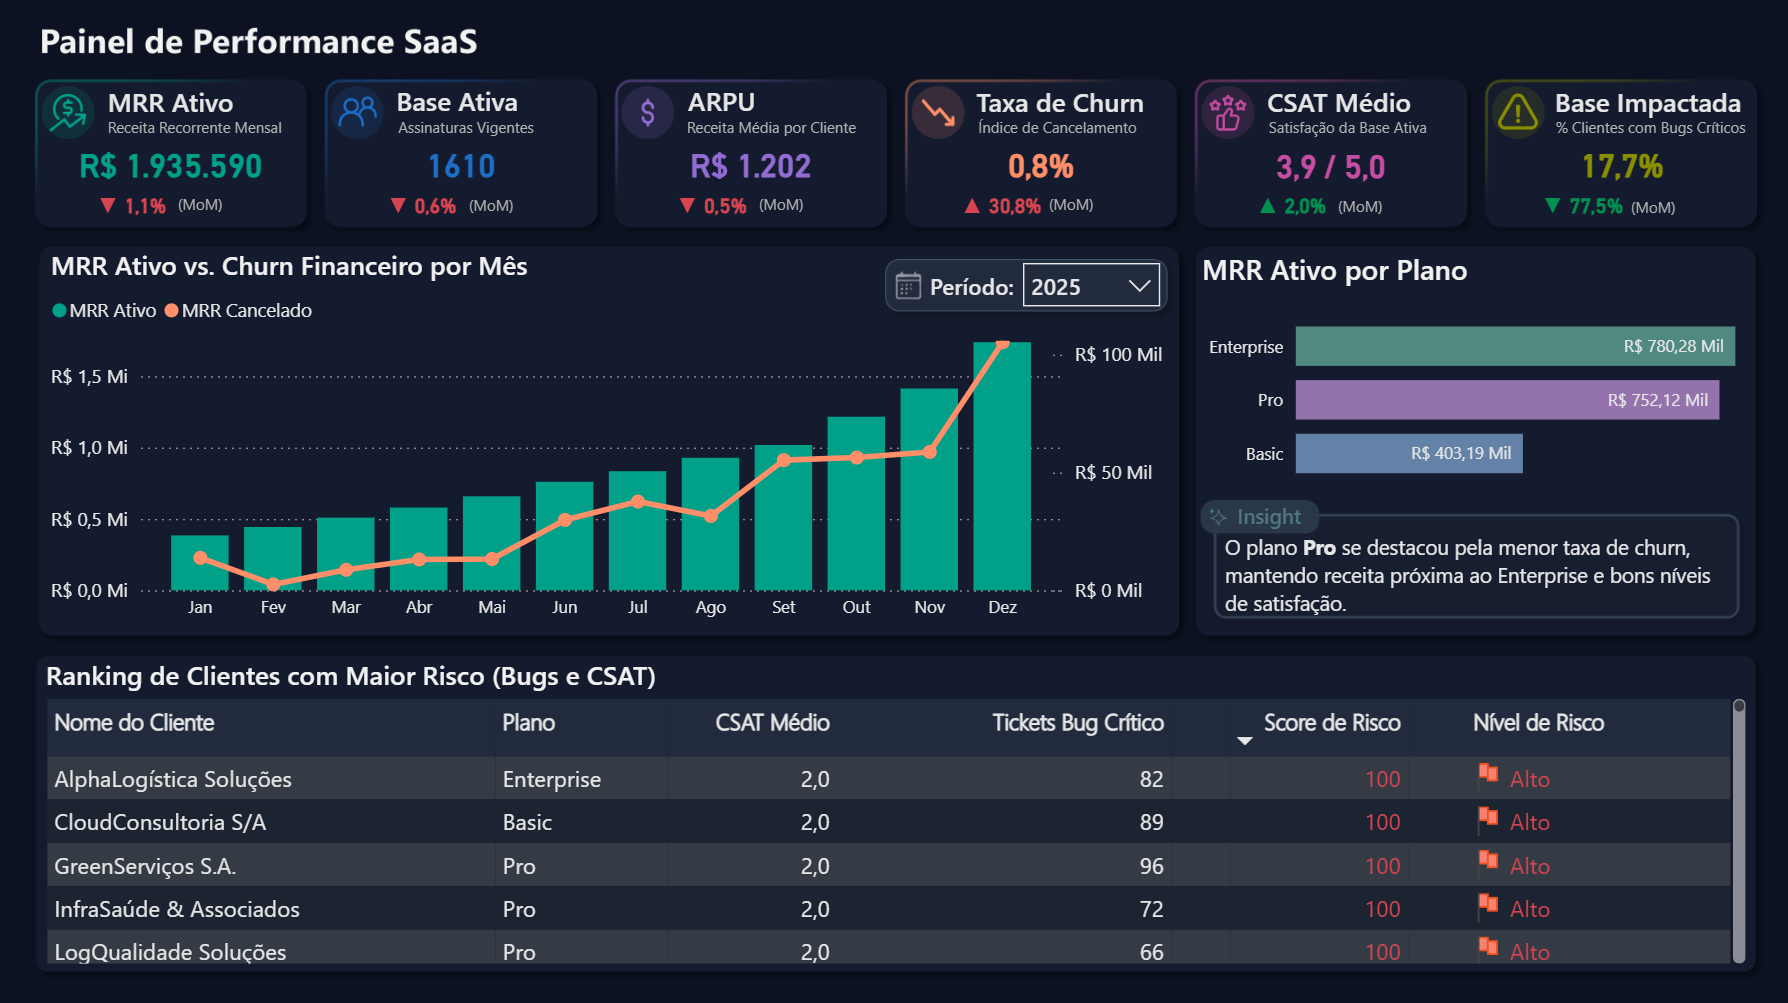

The dashboard page shown, as its layout file describes it:
{"tool":"powerbi","page":{"name":"Painel","canvas":[1280,720],"ordinal":0},"visuals":[{"type":"lineClusteredColumnComboChart","fields":{"Category":["Tabela Eixo Ano/Meses.Rótulo"],"Y2":["Medidas.MRR Cancelado Inteligente"],"Y":["Medidas.MRR Ativo Inteligente"]},"box":[31.1,176.7,804.4,275.6],"z":500},{"type":"clusteredBarChart","fields":{"Y":["Medidas.MRR Ativo"],"Category":["fMRR.tipo_plano"]},"box":[853.3,177.8,398.9,182.2],"z":1000},{"type":"tableEx","title":"Ranking de Clientes com Maior Risco (Bugs e CSAT)","fields":{"Values":["fMRR.nome_empresa","fMRR.tipo_plano","Medidas.CSAT Médio","Medidas.Tickets Bug Crítico","Medidas.Padding","Medidas.Score de Risco","Medidas.Padding","Medidas.Nível de Risco"]},"box":[28,469,1224,224],"z":2000},{"type":"textbox","box":[25,54.6,193.9,35],"z":3000},{"type":"textbox","box":[226.2,54.5,200.3,35.2],"z":4000},{"type":"textbox","box":[456.9,54.5,116.9,35.2],"z":5000},{"type":"textbox","box":[674.2,54.7,166.3,35.3],"z":6000},{"type":"textbox","box":[1099.4,55,156.1,35.6],"z":7000},{"type":"textbox","box":[42.5,75.7,193.9,27.5],"z":8000},{"type":"textbox","box":[249,75.9,167.2,27.2],"z":9000},{"type":"textbox","box":[473.2,75.8,156.6,27.4],"z":10000},{"type":"textbox","box":[674.2,75.5,162.2,27.8],"z":11000},{"type":"textbox","box":[881.8,75.8,162.5,27.2],"z":12000},{"type":"textbox","box":[1105.6,75.6,146.7,27.8],"z":13000},{"type":"card","fields":{"Values":["Medidas.Faturamento Total Ativo"]},"box":[25,90.8,194,53.5],"z":14000},{"type":"textbox","box":[865,55,183,36],"z":15000},{"type":"card","fields":{"Values":["Medidas.CSAT Dinâmico (KPI)"]},"box":[853.5,91.2,194.1,53.5],"z":16000},{"type":"card","fields":{"Values":["Medidas.Taxa Incidência de Bugs"]},"box":[1061.4,91.4,194.1,53.2],"z":17000},{"type":"card","fields":{"Values":["Medidas.Taxa de Churn"]},"box":[646.5,90.4,194.3,53.9],"z":18000},{"type":"card","fields":{"Values":["Medidas.ARPU"]},"box":[439.5,90.5,194.3,53.8],"z":19000},{"type":"card","fields":{"Values":["Medidas.Clientes Ativos"]},"box":[232.3,91.4,194.1,53.2],"z":20000},{"type":"slicer","fields":{"Values":["dCalendario.Ano"]},"box":[721,177.6,117.6,51.4],"z":21000},{"type":"card","fields":{"Values":["Medidas.KPI MRR"]},"box":[25,121.1,137.8,53.3],"z":22000},{"type":"card","fields":{"Values":["Medidas.KPI Base Ativa"]},"box":[232.2,121.1,138.1,53.3],"z":23000},{"type":"card","fields":{"Values":["Medidas.KPI ARPU"]},"box":[439.2,121.2,138.1,53.5],"z":24000},{"type":"card","fields":{"Values":["Medidas.KPI Taxa de Churn"]},"box":[646.5,121.5,137.7,53.1],"z":25000},{"type":"card","fields":{"Values":["Medidas.KPI CSAT Médio Ativo"]},"box":[853.5,121.5,137.7,53.1],"z":26000},{"type":"card","fields":{"Values":["Medidas.KPI Taxa Incidência de Bugs"]},"box":[1061.4,121.4,137.7,53.2],"z":27000},{"type":"textbox","box":[121.9,131,96.7,27.6],"z":28000},{"type":"textbox","box":[330,131.5,96.3,27],"z":29000},{"type":"textbox","box":[536.8,131.1,96.8,27.4],"z":30000},{"type":"textbox","box":[744.2,130.5,96.8,27.9],"z":31000},{"type":"textbox","box":[950.9,131.8,96.4,27.3],"z":32000},{"type":"textbox","box":[1160,132.7,96.4,27.3],"z":33000},{"type":"textbox","box":[652.9,188.6,82.9,35.2],"z":34000},{"type":"textbox","box":[864.7,353.7,83.2,34.2],"z":35000},{"type":"enlightenDataStoryDDFB78A6143E42CFAFBC50CCF18D978D","fields":{"measure":["Medidas.Insight Plano"]},"box":[870,376,370.7,68.7],"z":36000}]}

Visuals, with their boxes in screenshot pixels (x1, y1, x2, y2), scaled from the page's 1280x720 canvas onto the 1788x1003 screenshot:
lineClusteredColumnComboChart - Tabela Eixo Ano/Meses.Rótulo x Medidas.MRR Cancelado Inteligente: rect(43, 246, 1167, 630)
clusteredBarChart - Medidas.MRR Ativo x fMRR.tipo_plano: rect(1192, 248, 1749, 502)
"Ranking de Clientes com Maior Risco (Bugs e CSAT)" tableEx: rect(39, 653, 1749, 965)
textbox: rect(35, 76, 306, 125)
textbox: rect(316, 76, 596, 125)
textbox: rect(638, 76, 802, 125)
textbox: rect(942, 76, 1174, 125)
textbox: rect(1536, 77, 1754, 126)
textbox: rect(59, 105, 330, 144)
textbox: rect(348, 106, 581, 144)
textbox: rect(661, 106, 880, 144)
textbox: rect(942, 105, 1168, 144)
textbox: rect(1232, 106, 1459, 143)
textbox: rect(1544, 105, 1749, 144)
card - Medidas.Faturamento Total Ativo: rect(35, 126, 306, 201)
textbox: rect(1208, 77, 1464, 127)
card - Medidas.CSAT Dinâmico (KPI): rect(1192, 127, 1463, 202)
card - Medidas.Taxa Incidência de Bugs: rect(1483, 127, 1754, 201)
card - Medidas.Taxa de Churn: rect(903, 126, 1174, 201)
card - Medidas.ARPU: rect(614, 126, 885, 201)
card - Medidas.Clientes Ativos: rect(324, 127, 596, 201)
slicer - dCalendario.Ano: rect(1007, 247, 1171, 319)
card - Medidas.KPI MRR: rect(35, 169, 227, 243)
card - Medidas.KPI Base Ativa: rect(324, 169, 517, 243)
card - Medidas.KPI ARPU: rect(614, 169, 806, 243)
card - Medidas.KPI Taxa de Churn: rect(903, 169, 1095, 243)
card - Medidas.KPI CSAT Médio Ativo: rect(1192, 169, 1385, 243)
card - Medidas.KPI Taxa Incidência de Bugs: rect(1483, 169, 1675, 243)
textbox: rect(170, 182, 305, 221)
textbox: rect(461, 183, 595, 221)
textbox: rect(750, 183, 885, 221)
textbox: rect(1040, 182, 1175, 221)
textbox: rect(1328, 184, 1463, 222)
textbox: rect(1620, 185, 1755, 223)
textbox: rect(912, 263, 1028, 312)
textbox: rect(1208, 493, 1324, 540)
enlightenDataStoryDDFB78A6143E42CFAFBC50CCF18D978D - Medidas.Insight Plano: rect(1215, 524, 1733, 619)
